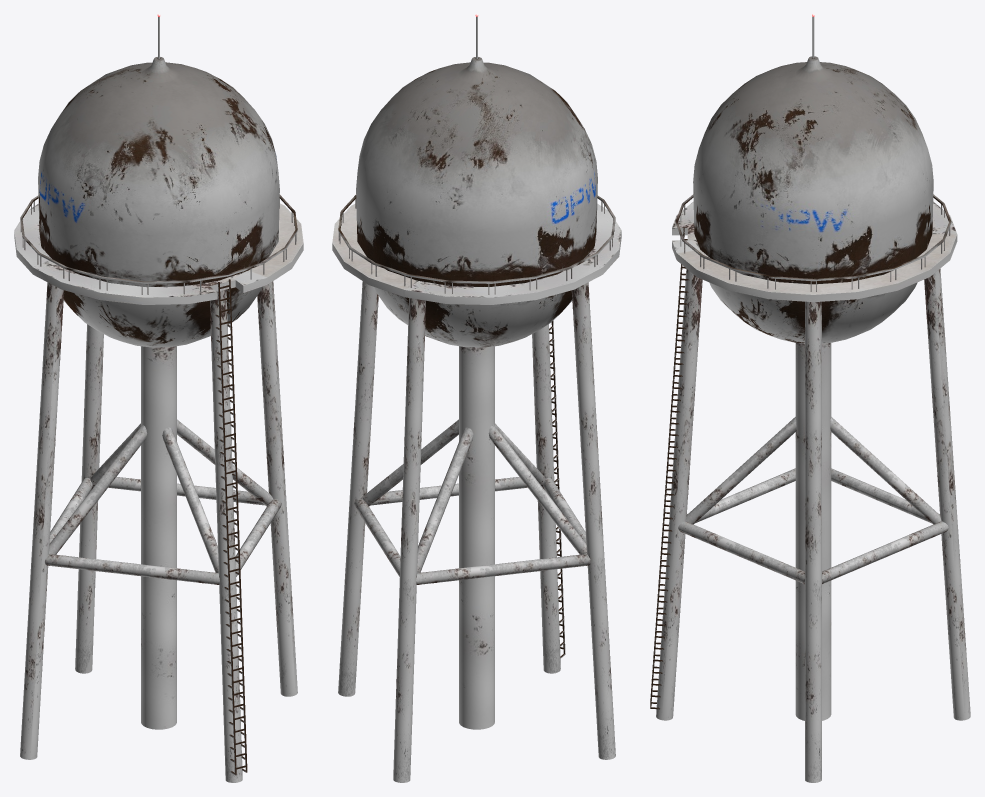
File: weathered_water_tower.glb
3 renders of one model, left to right at view 1: azimuth 30°, elevation 25°; view 2: azimuth 150°, elevation 25°; view 3: azimuth 270°, elevation 25°, orthographic.
Parts seen in each view (by area): view 1: defaultMaterial; view 2: defaultMaterial; view 3: defaultMaterial.
Part boxes in pixels (x1,y1,x2,y2): defaultMaterial: (14, 14, 303, 782); defaultMaterial: (332, 14, 621, 782); defaultMaterial: (650, 14, 970, 782).
Bounding box in the file's own units: 0.8113 × 2 × 0.8265.
1 material, 1 textured.
